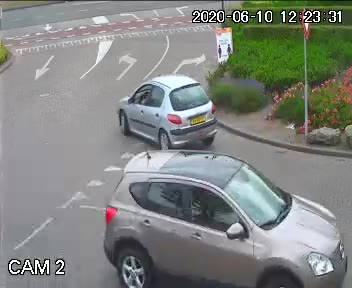car: (89, 147, 352, 288), (111, 71, 207, 156)
